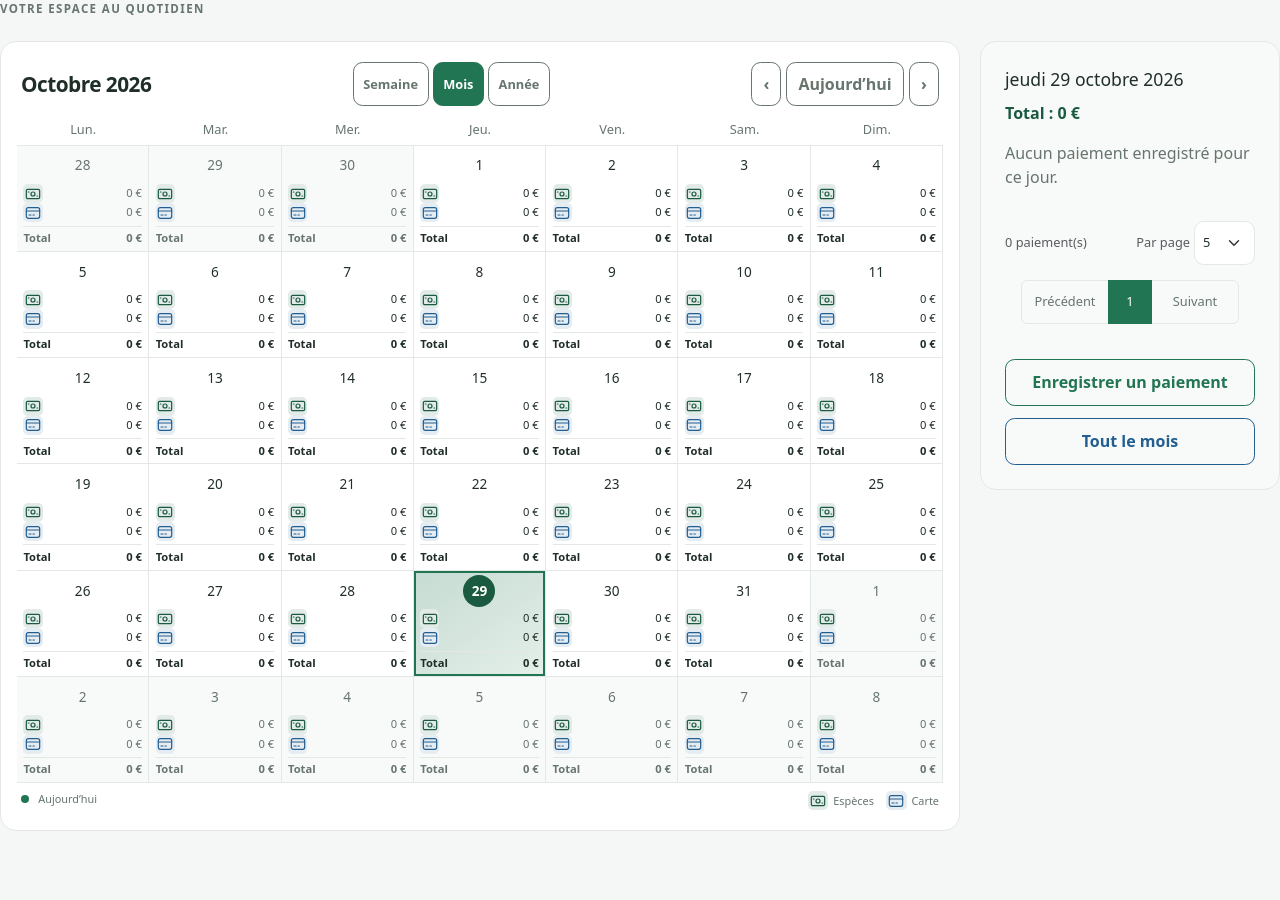
it: modale : patient obligatoire, montant en centimes et actualisation calendrier/liste après création
This screenshot has width=1280, height=900.
Check: the element named "Calendrier " is shown, box x1=17 y1=145 x2=943 y2=782
Click the button "Enregistrer un paiement" at (1130, 382), box x1=1005 y1=359 x2=1255 y2=406
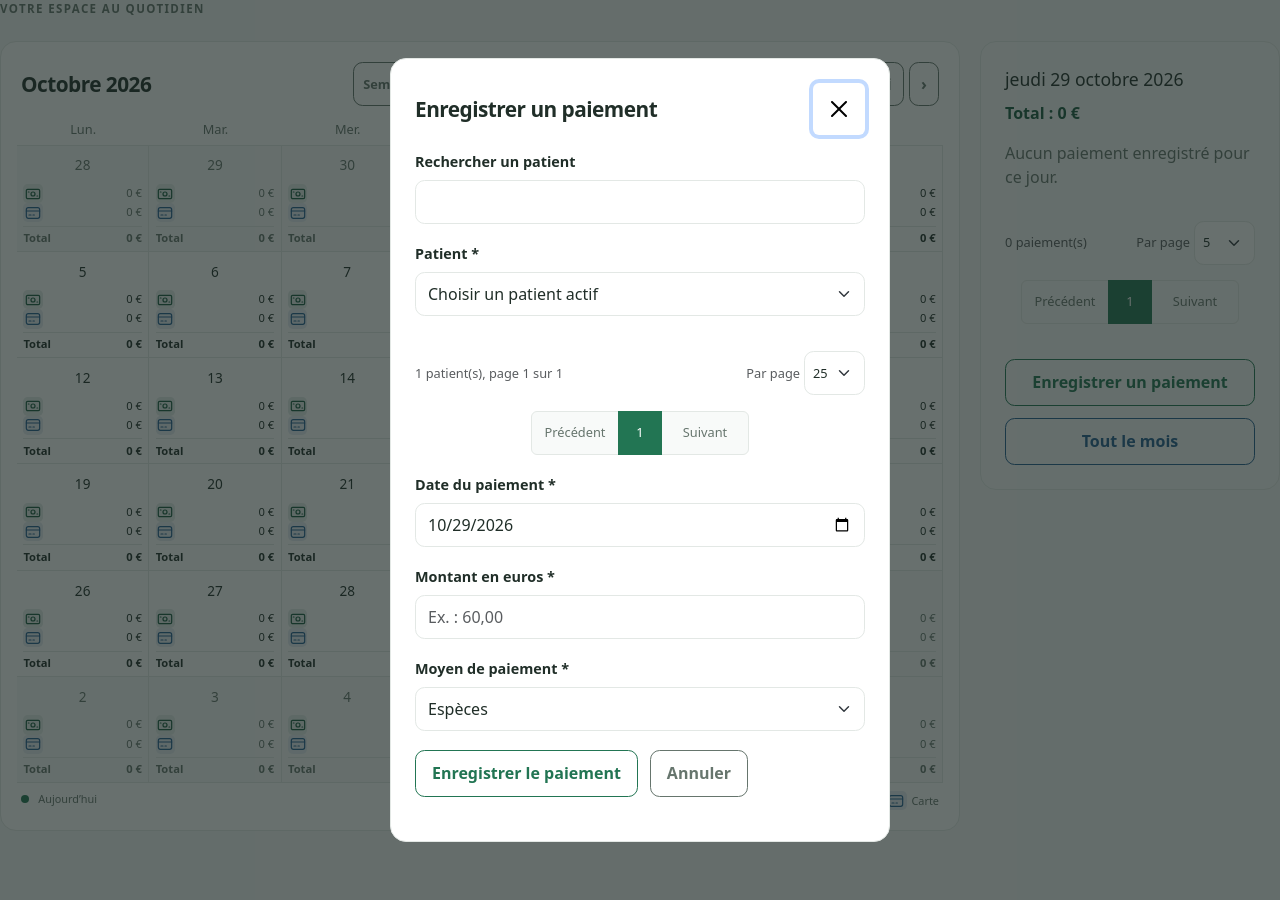
Check: the date field labelled "Date du paiement *" holds "2026-10-29", box x1=415 y1=503 x2=865 y2=547
Select "Exemple Fictif" in the dropdown labelled "Patient *" at (640, 294), box x1=415 y1=272 x2=865 y2=316
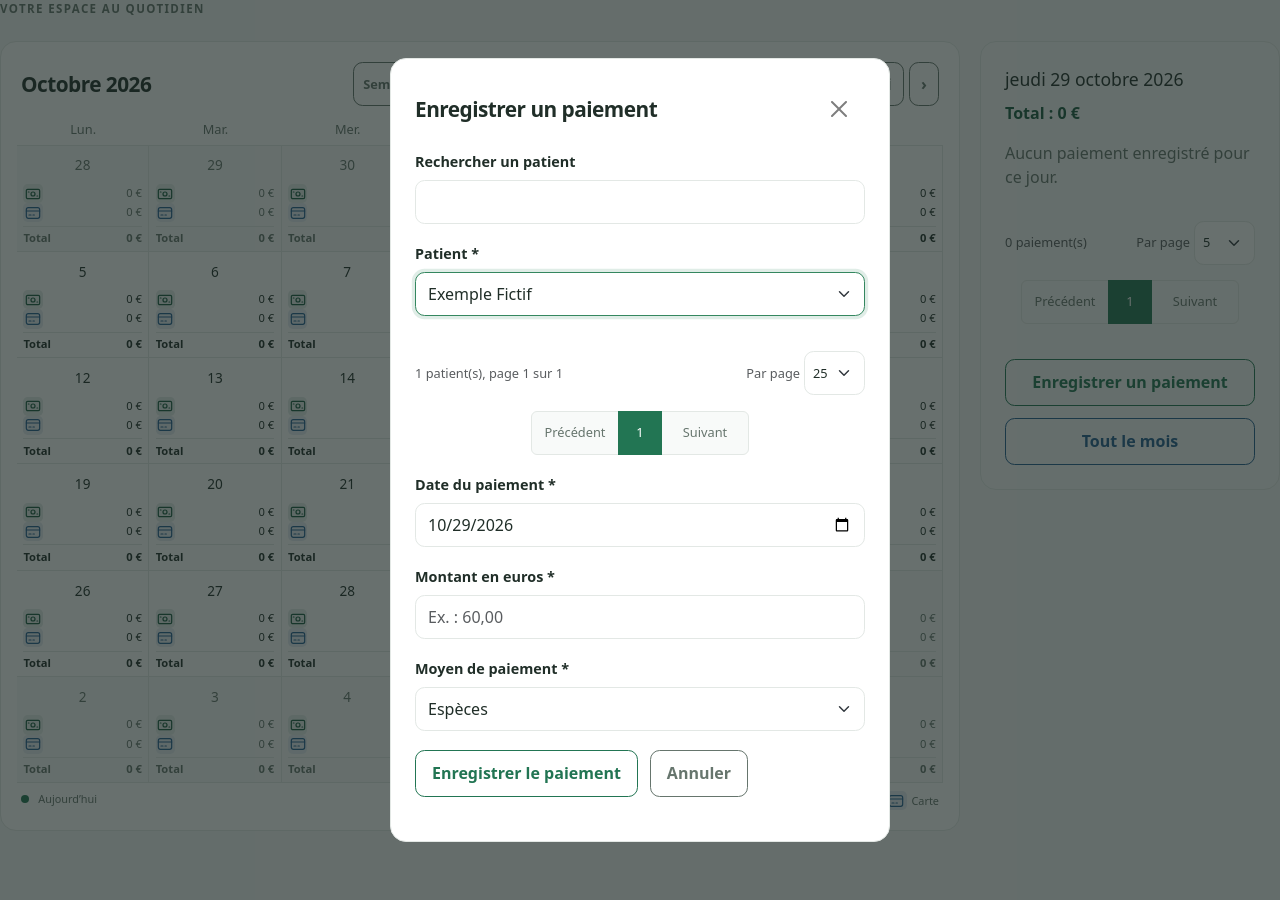
Type "60,50" into the field labelled "Montant en euros *" at (640, 617), box x1=415 y1=595 x2=865 y2=639
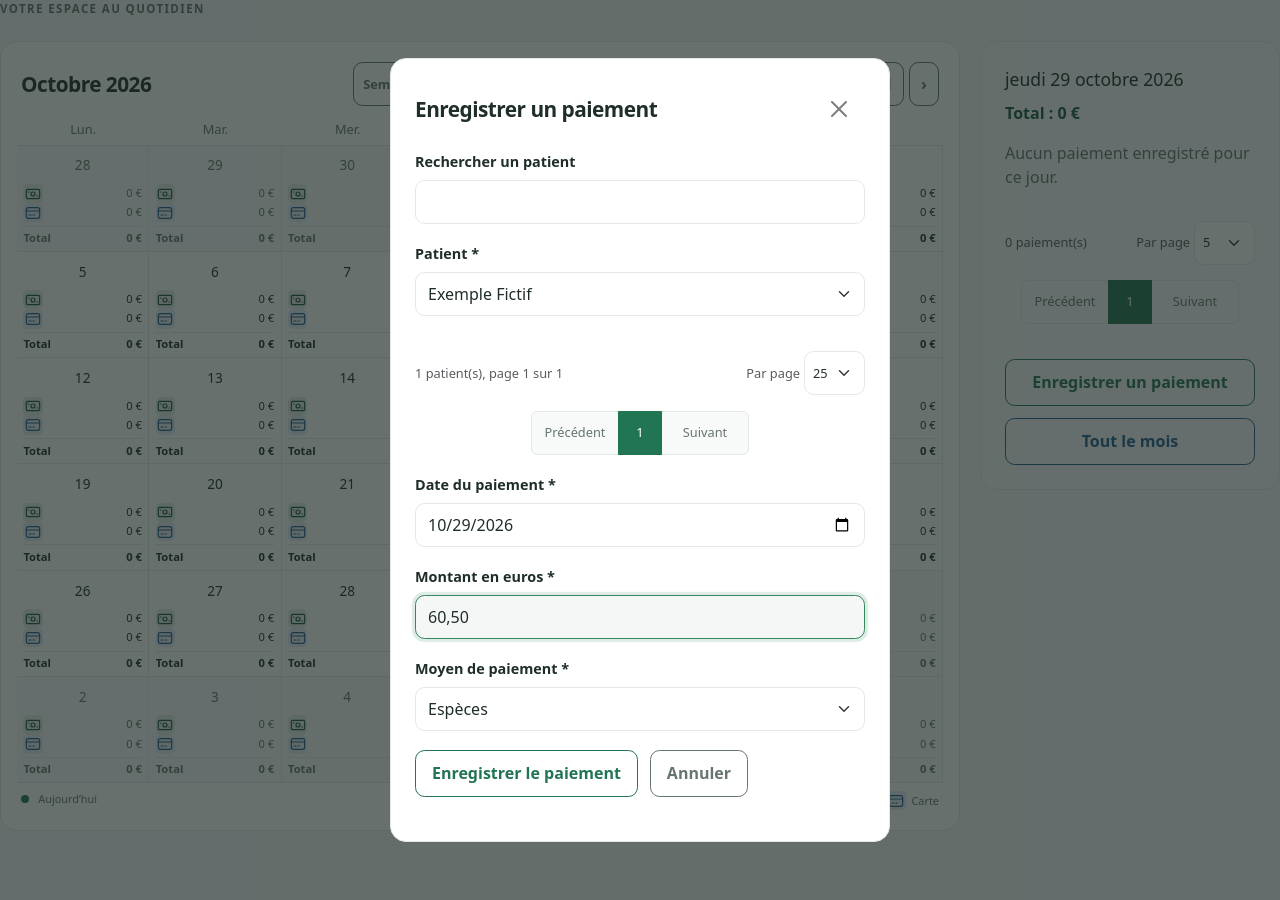
Select "Carte" in the dropdown labelled "Moyen de paiement *" at (640, 709), box x1=415 y1=687 x2=865 y2=731
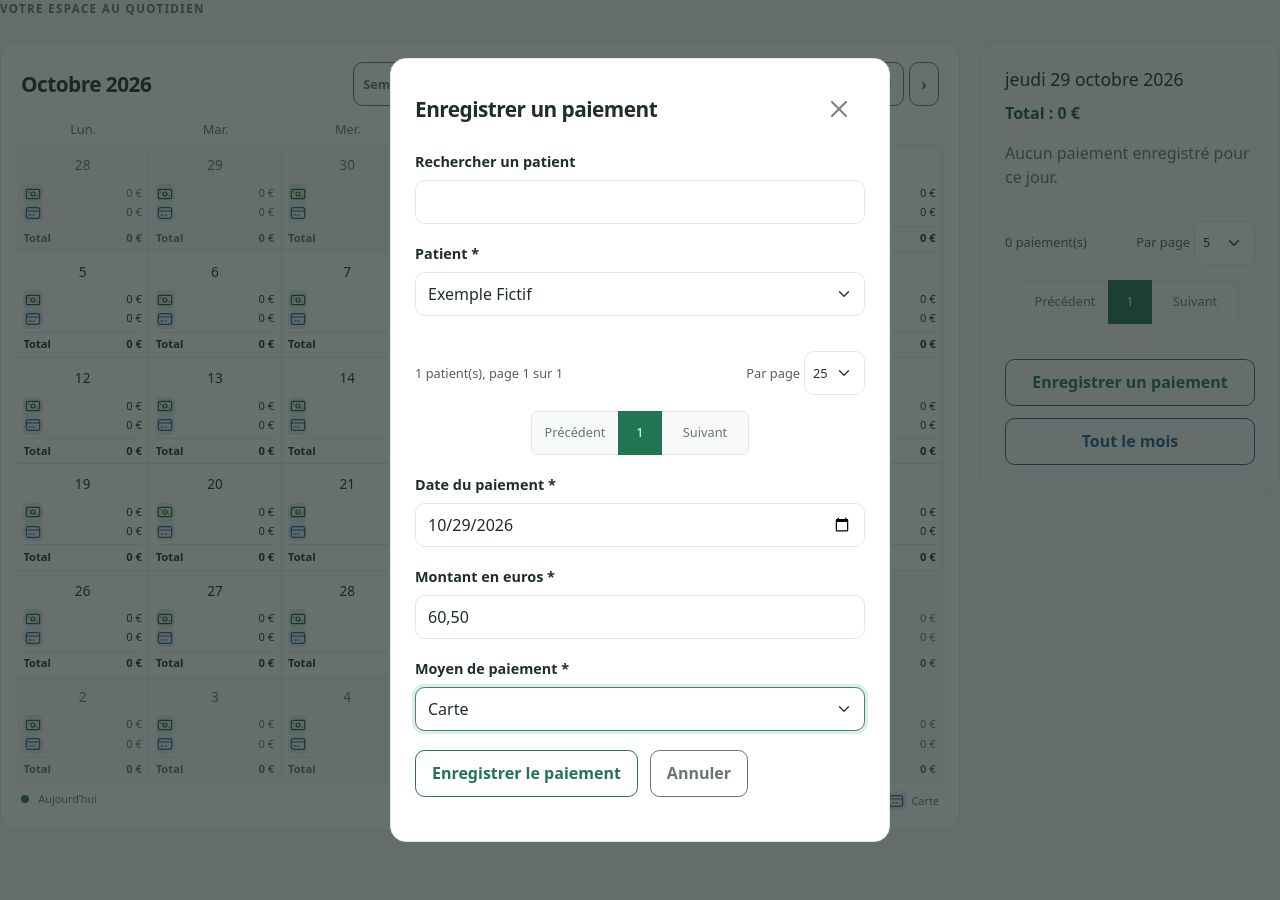
Click the button "Enregistrer le paiement" at (526, 773), box x1=415 y1=750 x2=638 y2=797
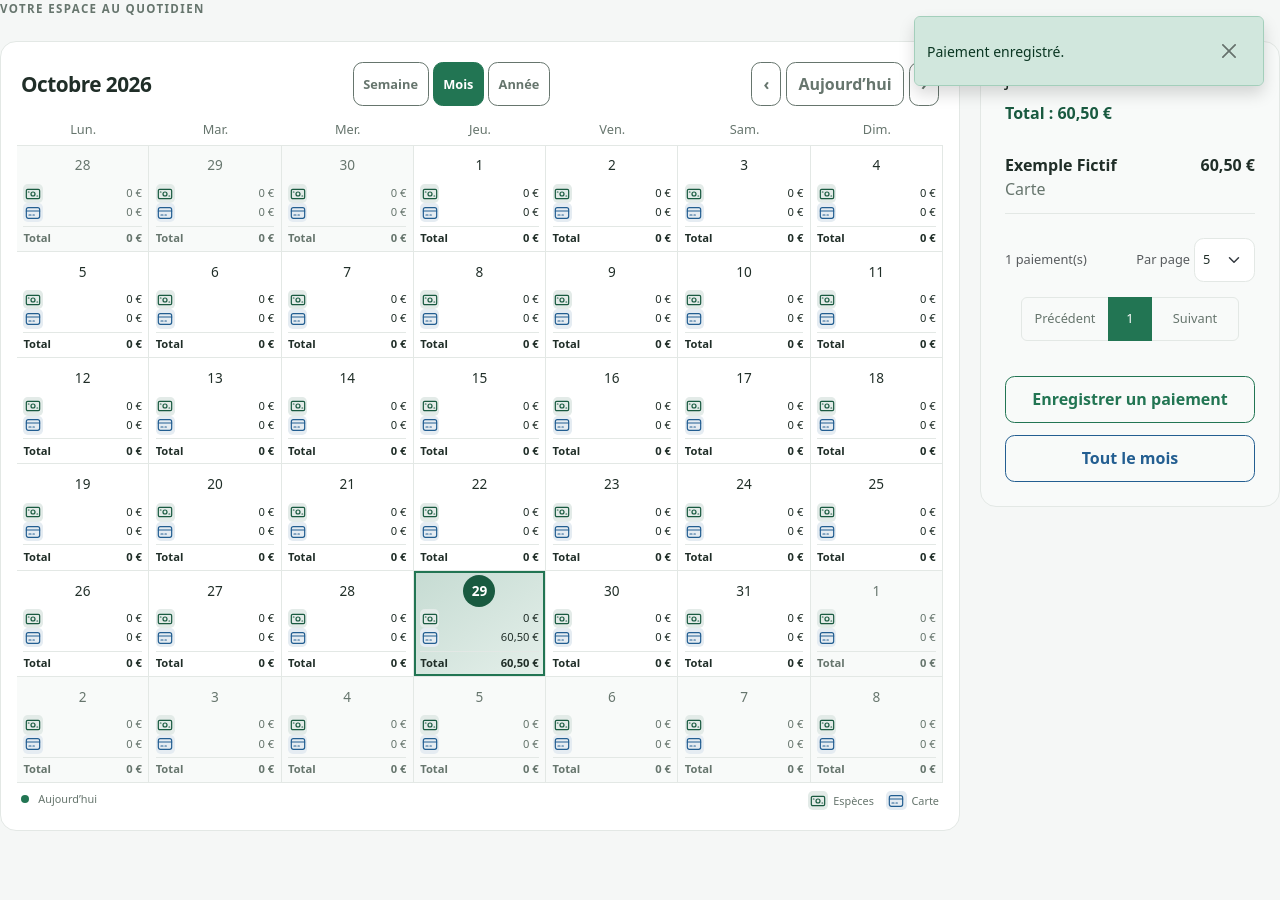
Check: the text "60,50 €" is shown 2 times, box x1=501 y1=628 x2=539 y2=648; x1=501 y1=654 x2=539 y2=672
Check: the dialog is gone
Check: the text "Exemple Fictif" is shown, box x1=1005 y1=154 x2=1117 y2=176
